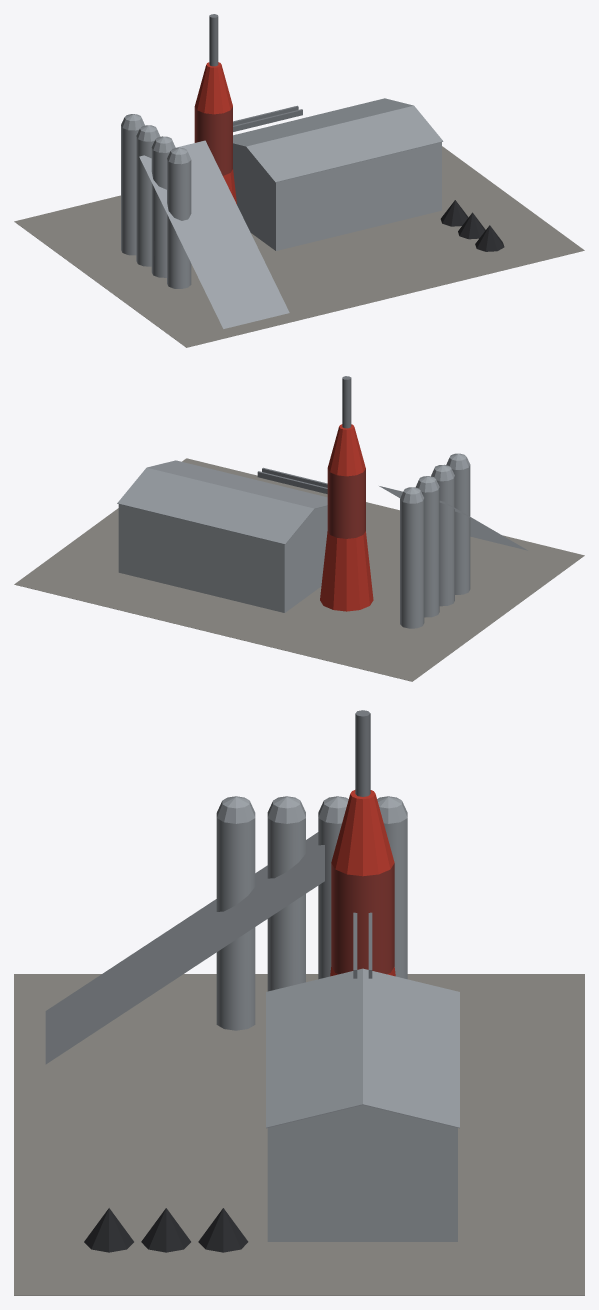
The model's file is haut_fourneau.glb.
3 views of the same model, one above another, from view 1: azimuth 30°, elevation 25°; view 2: azimuth 150°, elevation 25°; view 3: azimuth 270°, elevation 25° (orthographic). The views are drawn at different scales.
Parts seen in each view (by area): view 1: haut_fourneau; view 2: haut_fourneau; view 3: haut_fourneau.
Part boxes in pixels (x1,y1,x2,y2): haut_fourneau: (14, 14, 584, 347); haut_fourneau: (14, 376, 584, 681); haut_fourneau: (14, 710, 584, 1295).
Size of the model in its own units: 120 by 64 by 90.
Materials: 1 (1 with a texture image).
